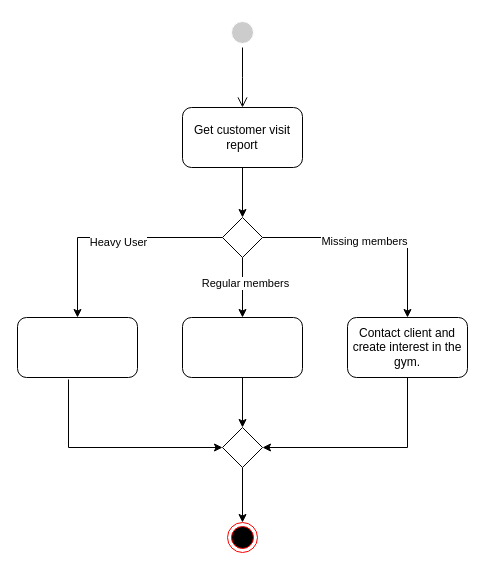
Some shapes in this 485 by 570 pixel diagram are drawn without their labels. The centre of each missing label's shape, as x and y in pixels:
Contact for early renewal at reduced rate: pixel 77 347
Send renewal notice one month before end of membership: pixel 242 347
